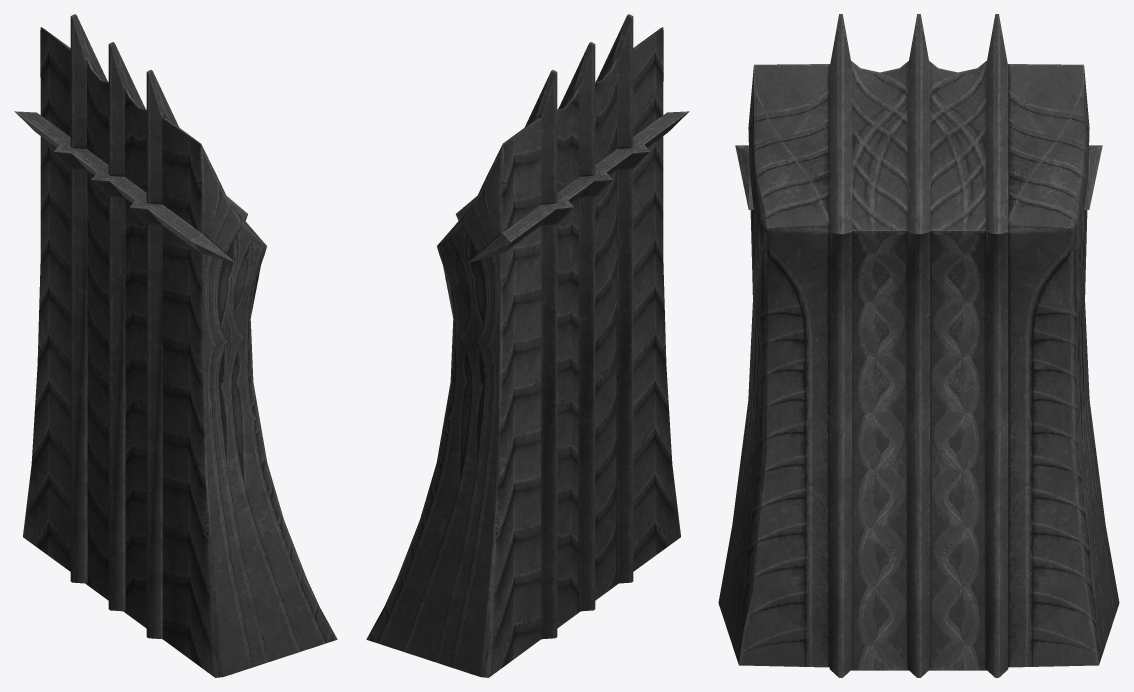
The model's file is bg_rad_kamen_chair01b_sm_cjy.obj.
3 views of the same model, side by side, from view 1: azimuth 30°, elevation 25°; view 2: azimuth 150°, elevation 25°; view 3: azimuth 270°, elevation 25° (orthographic). The views are drawn at different scales.
Parts seen in each view (by area): view 1: bg_rad_kamen_chair01b_sm_cjy_0; view 2: bg_rad_kamen_chair01b_sm_cjy_0; view 3: bg_rad_kamen_chair01b_sm_cjy_0.
Boxes of the visible parts, box(x1,y1,x2,y2) form: bg_rad_kamen_chair01b_sm_cjy_0: box(14, 14, 337, 677); bg_rad_kamen_chair01b_sm_cjy_0: box(366, 14, 689, 677); bg_rad_kamen_chair01b_sm_cjy_0: box(718, 14, 1119, 677).
Bounding box in the file's own units: 0.6403 × 1.89 × 1.17.
Materials: 1 (1 with a texture image).
